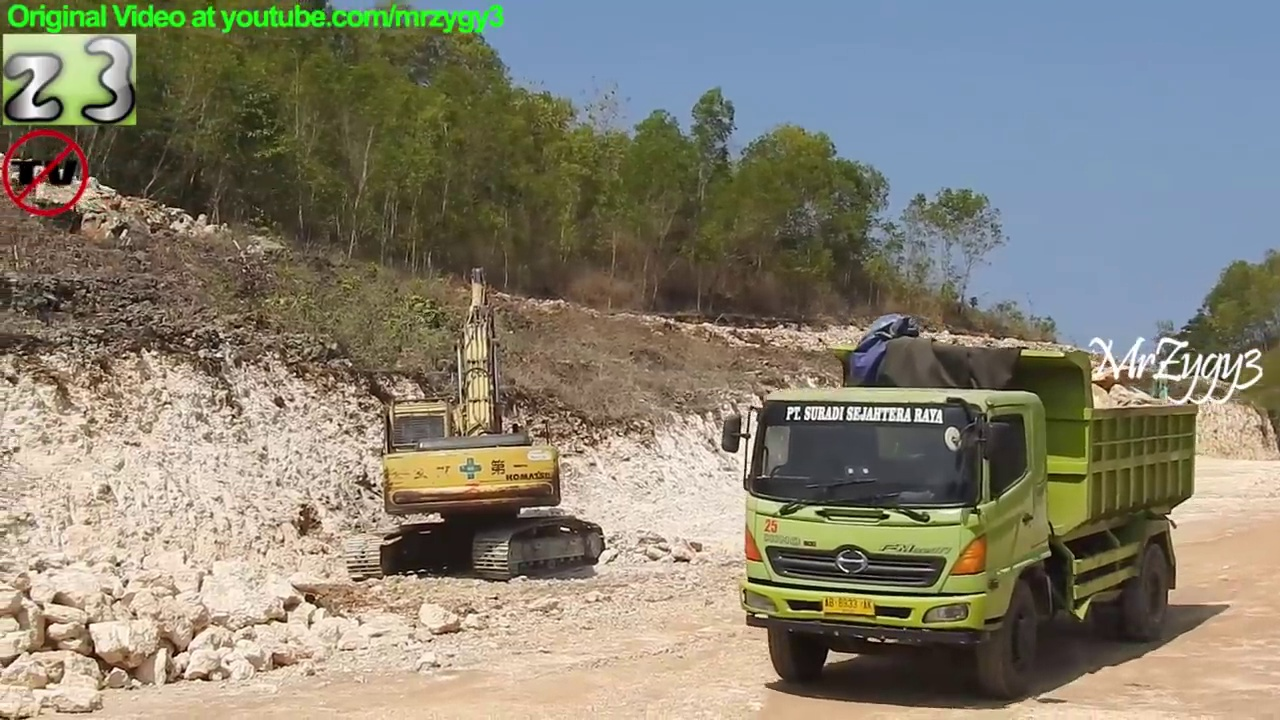excavator: (1124, 336, 1205, 461)
excavator breaker: (334, 258, 613, 589)
truck: (715, 312, 1205, 706)
